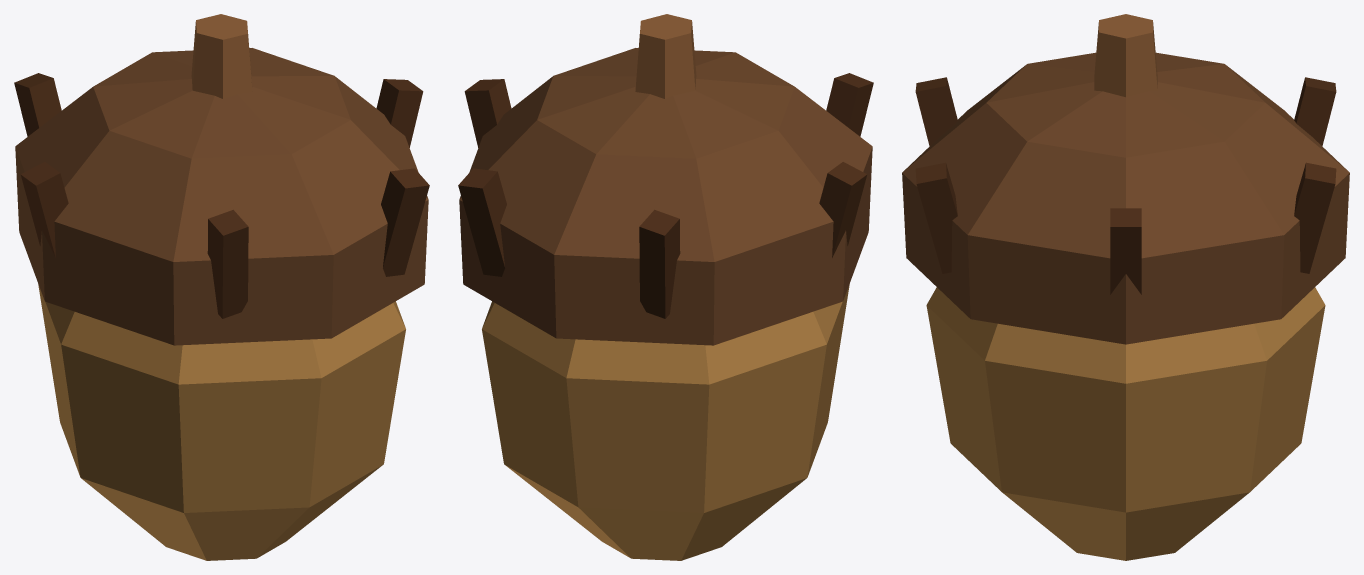
File: env_r10_acorn_big.glb
The picture shows the model from 3 angles, left to right: view 1: azimuth 30°, elevation 25°; view 2: azimuth 150°, elevation 25°; view 3: azimuth 270°, elevation 25°; orthographic projection.
Parts seen in each view (by area): view 1: env_r10_acorn_big; view 2: env_r10_acorn_big; view 3: env_r10_acorn_big.
Part boxes in pixels (x1,y1,x2,y2): env_r10_acorn_big: [14, 14, 429, 560]; env_r10_acorn_big: [458, 14, 873, 560]; env_r10_acorn_big: [902, 14, 1349, 560].
Bounding box in the file's own units: 1.2 × 1.5 × 1.2.
Materials: 1 (1 with a texture image).
